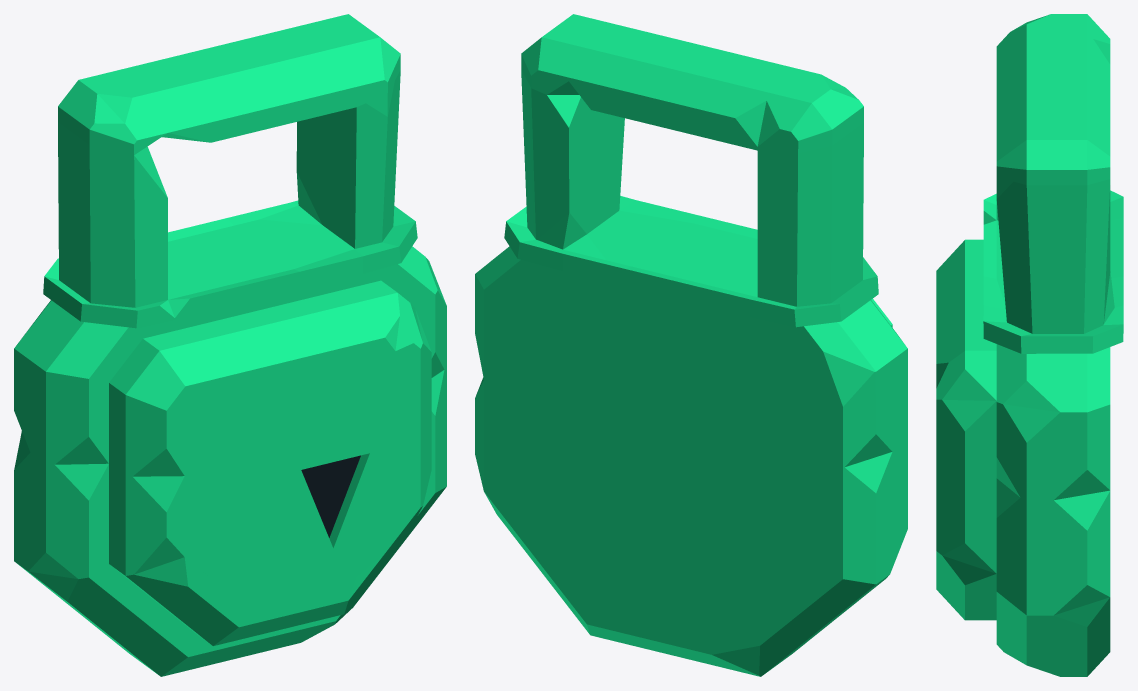
The model's file is green_lock.glb.
3 views of the same model, side by side, from view 1: azimuth 30°, elevation 25°; view 2: azimuth 150°, elevation 25°; view 3: azimuth 270°, elevation 25° (orthographic). The views are drawn at different scales.
Parts seen in each view (by area): view 1: Circle.020; view 2: Circle.020; view 3: Circle.020.
Part boxes in pixels (x1,y1,x2,y2): Circle.020: (14,14,446,676); Circle.020: (475,14,907,676); Circle.020: (936,14,1123,676).
Size of the model in its own units: 2 by 2.79 by 0.8475.
Materials: 1 (1 with a texture image).
